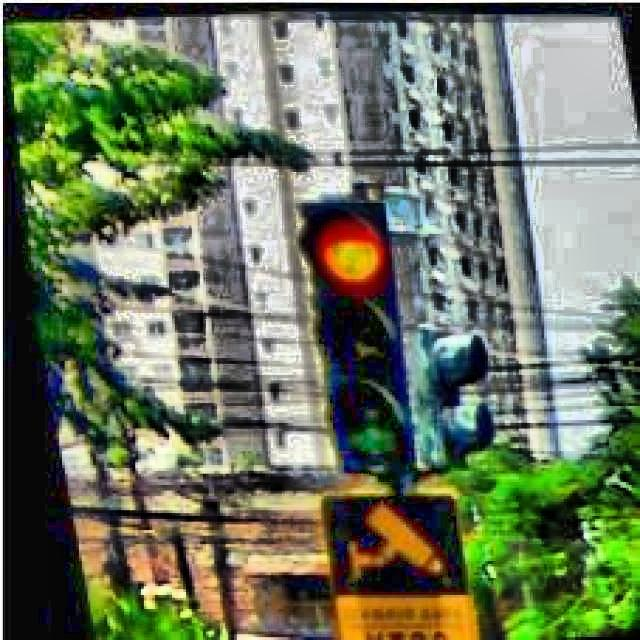red: (294, 198, 426, 478)
